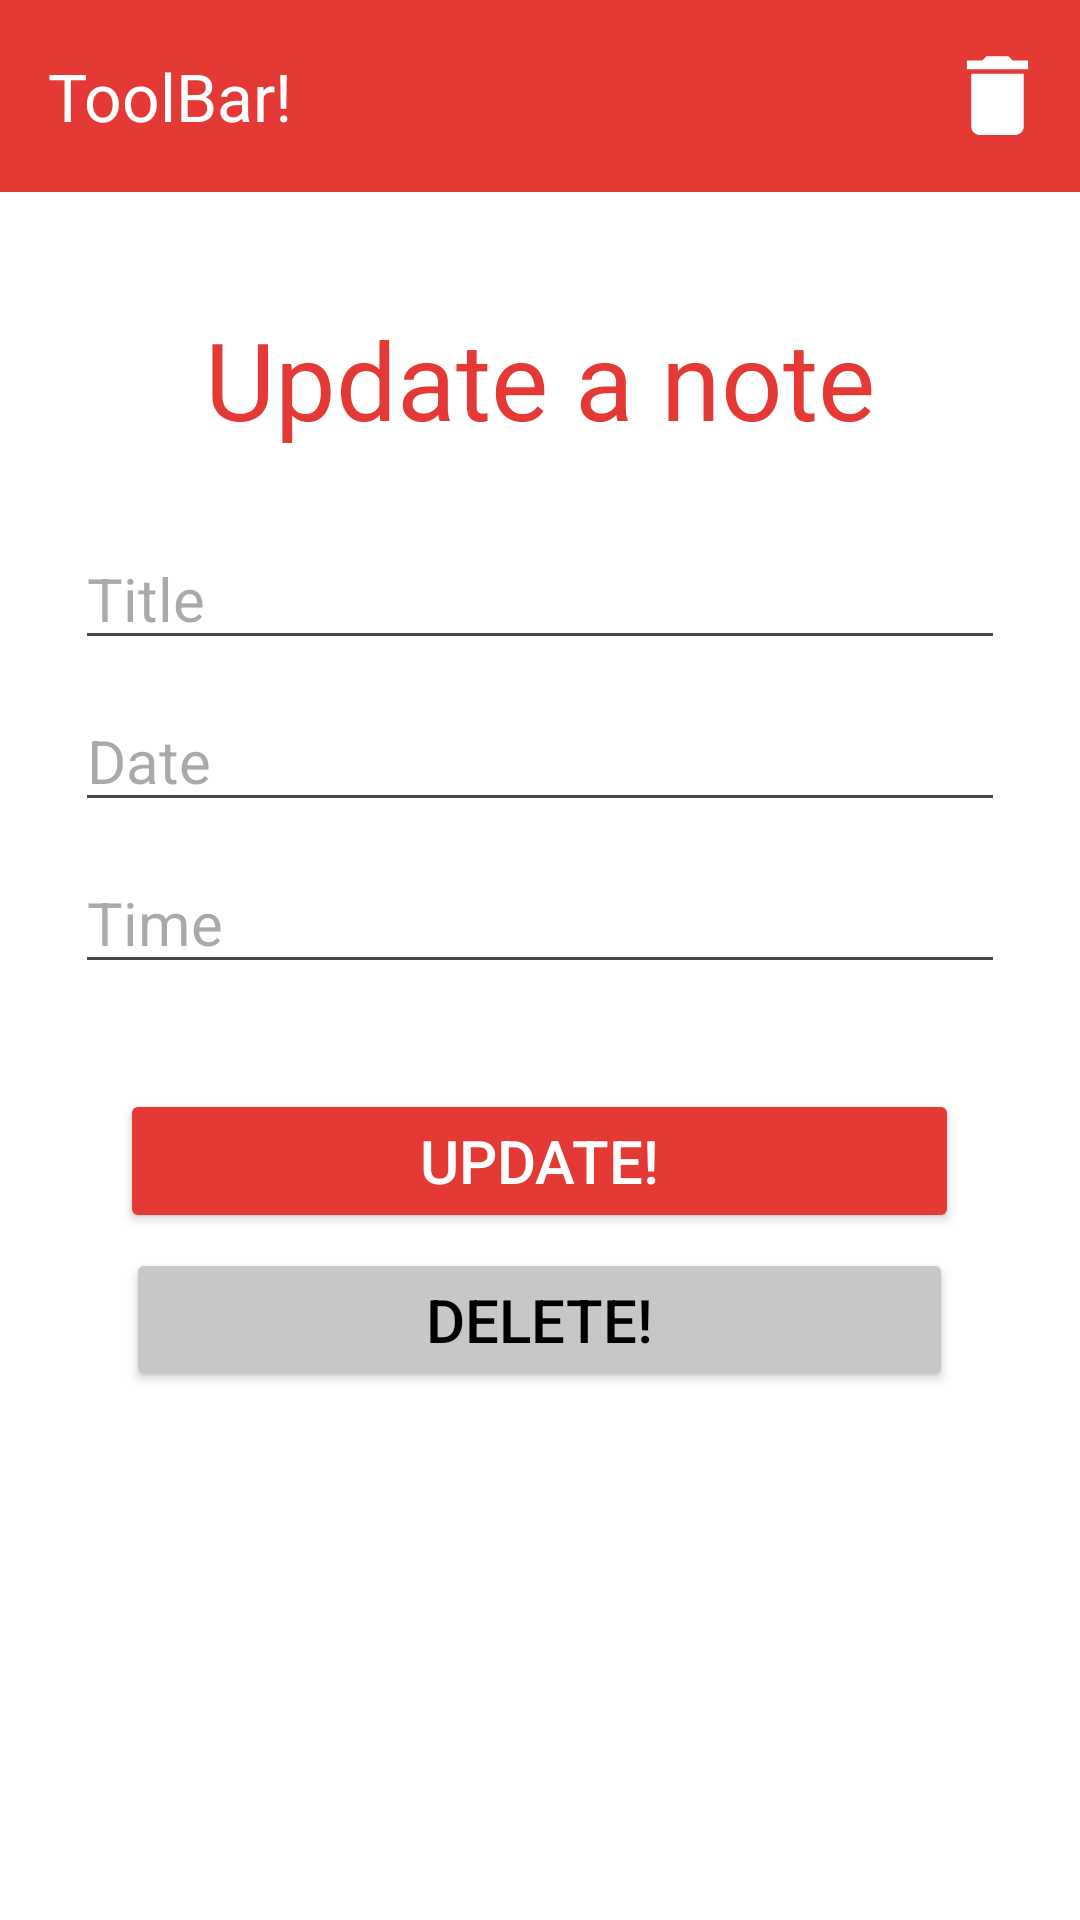

Named icons in this screenshot (1080*1920) and their centers, (x,y):
delete: (997,95)
